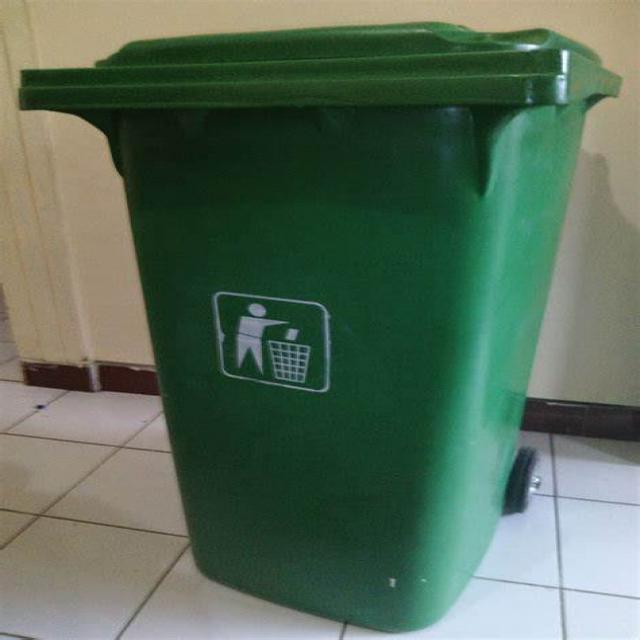garbage container: (0, 11, 615, 626)
